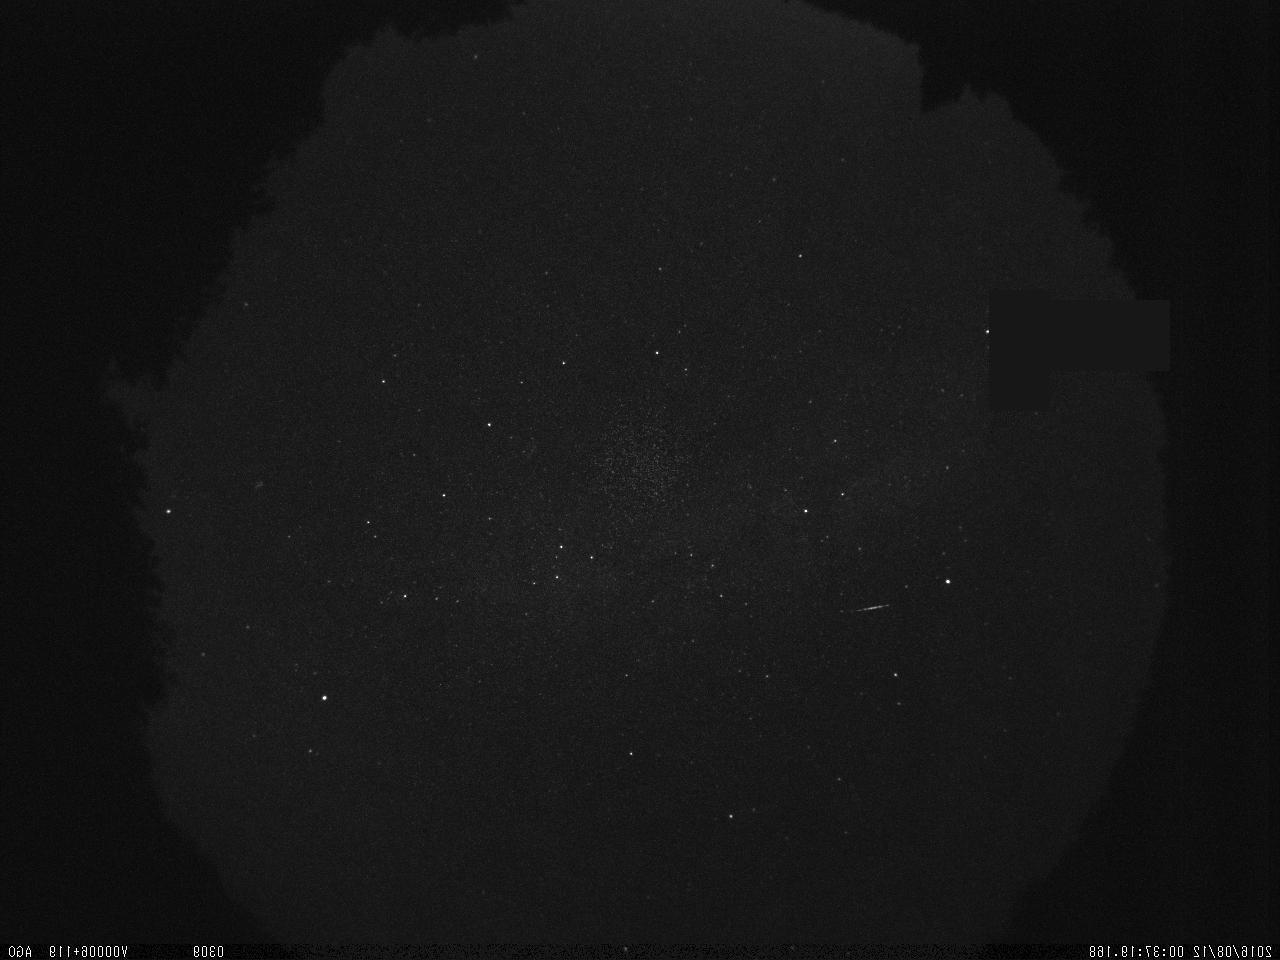meteor: (833, 597, 897, 622)
